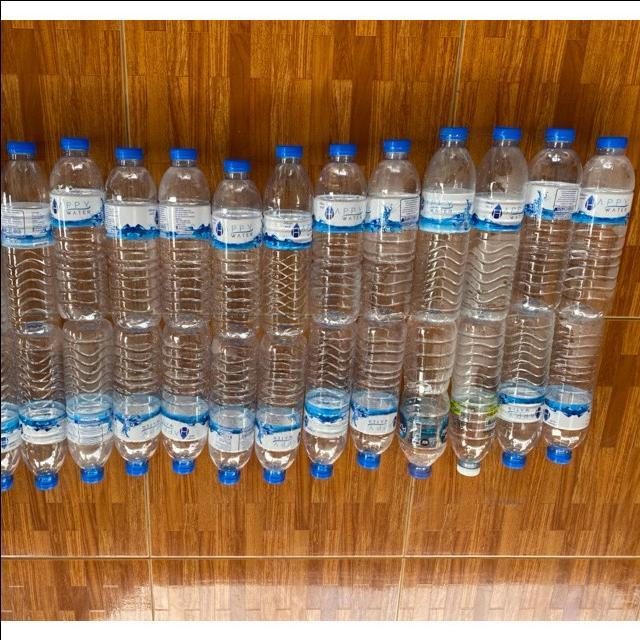PET Bottle: (516, 116, 582, 310), (569, 124, 635, 309), (461, 128, 521, 319), (424, 114, 476, 329), (105, 139, 162, 327), (365, 125, 419, 321), (399, 305, 455, 490), (158, 148, 212, 332), (59, 315, 116, 488), (52, 139, 104, 322), (155, 313, 209, 487), (549, 293, 601, 473), (496, 294, 548, 471), (4, 130, 50, 330), (264, 140, 310, 335), (212, 156, 262, 333), (318, 140, 366, 324), (454, 309, 503, 481), (204, 323, 254, 489), (305, 308, 353, 478), (109, 319, 157, 486), (22, 325, 68, 497), (258, 321, 304, 486), (358, 319, 400, 473)
